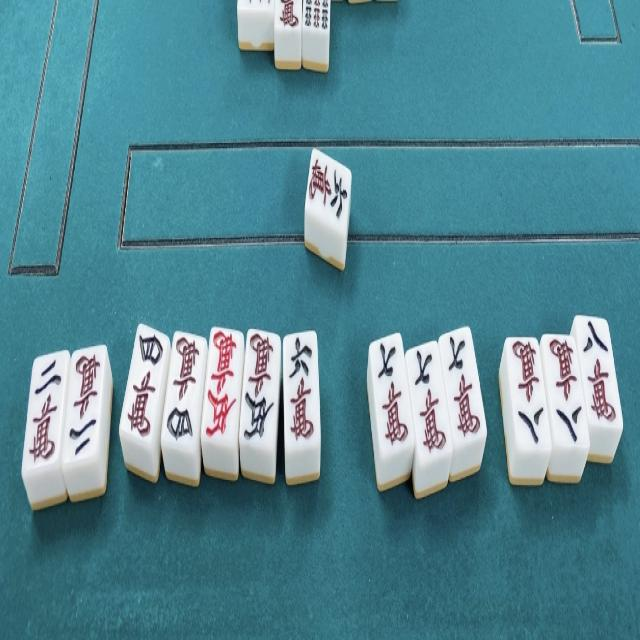characters_2: (20, 352, 68, 468), (62, 345, 105, 462)
characters_4: (120, 318, 169, 447), (162, 328, 206, 451)
characters_5: (238, 324, 280, 451), (201, 325, 242, 446)
characters_6: (282, 328, 321, 450), (304, 144, 352, 238)
characters_7: (439, 326, 486, 452), (370, 332, 415, 461), (406, 338, 452, 462)
characters_8: (574, 313, 624, 428), (541, 333, 590, 446), (506, 336, 550, 452)
